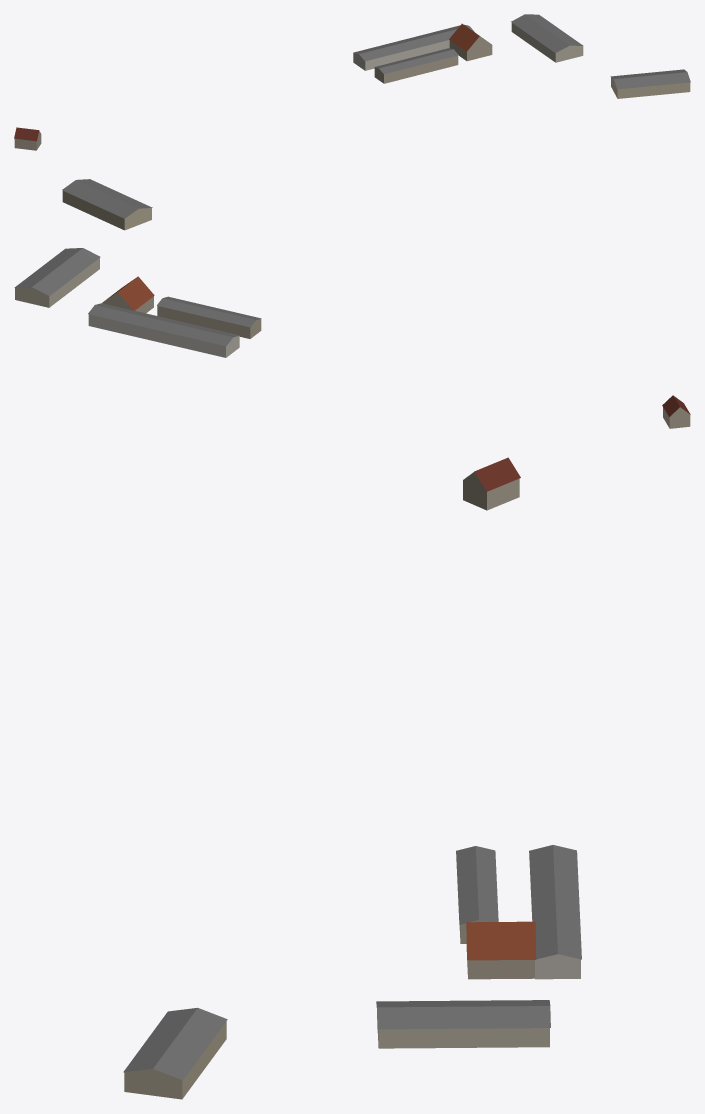
The picture shows the model from 3 angles, top to bottom: view 1: azimuth 30°, elevation 25°; view 2: azimuth 150°, elevation 25°; view 3: azimuth 270°, elevation 25°; orthographic projection. The views are drawn at different scales.
Parts seen in each view (by area): view 1: buildings; view 2: buildings; view 3: buildings.
Part boxes in pixels (x1,y1,x2,y2): buildings: [14, 14, 690, 150]; buildings: [14, 179, 690, 428]; buildings: [123, 457, 581, 1099].
Bounding box in the file's own units: 372 × 21.22 × 125.
